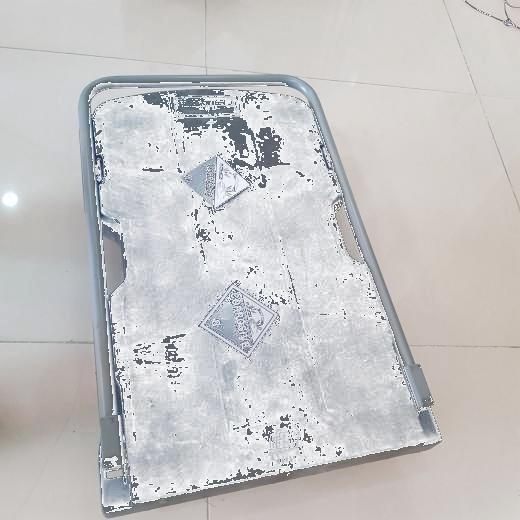corrosive: (200, 285, 278, 365), (183, 152, 251, 214)
